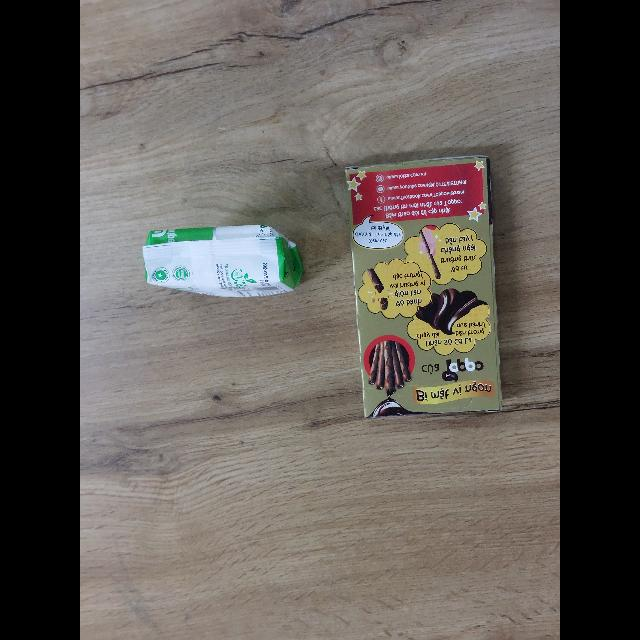banh_toppo_socola: (345, 152, 504, 418)
khan_giay: (142, 222, 304, 297)
